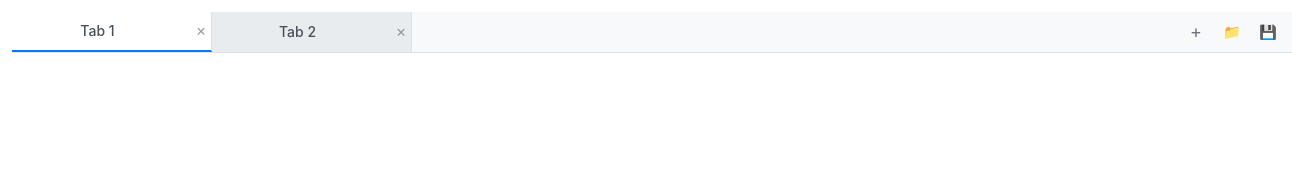
Test: TabBar › should enable editing mode when tab title is double-clicked
This screenshot has width=1292, height=172.
ダブルクリックして編集モードに入る
Double-click the button "Tab 1": point(98, 31) [12,12,183,50]
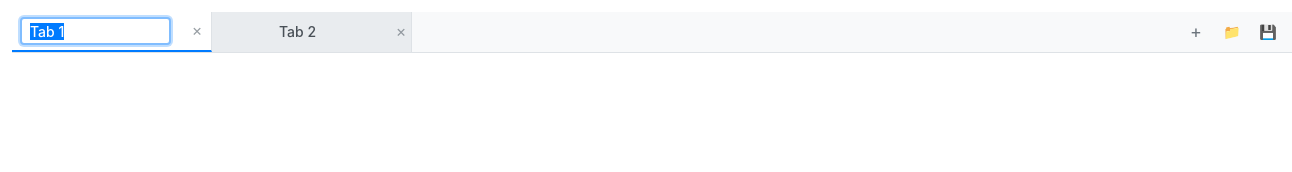
Check: the field showing "Tab 1" is shown, box [20,17,171,45]
